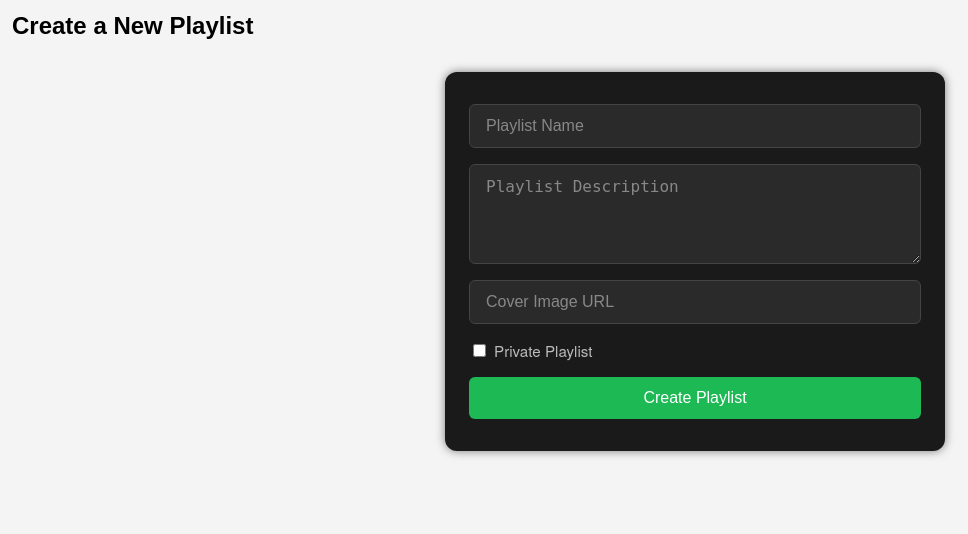
CreatePlaylist › shows password input when private is checked
Click the checkbox labelled "Private Playlist" at point(480, 350), box [473, 344, 486, 357]
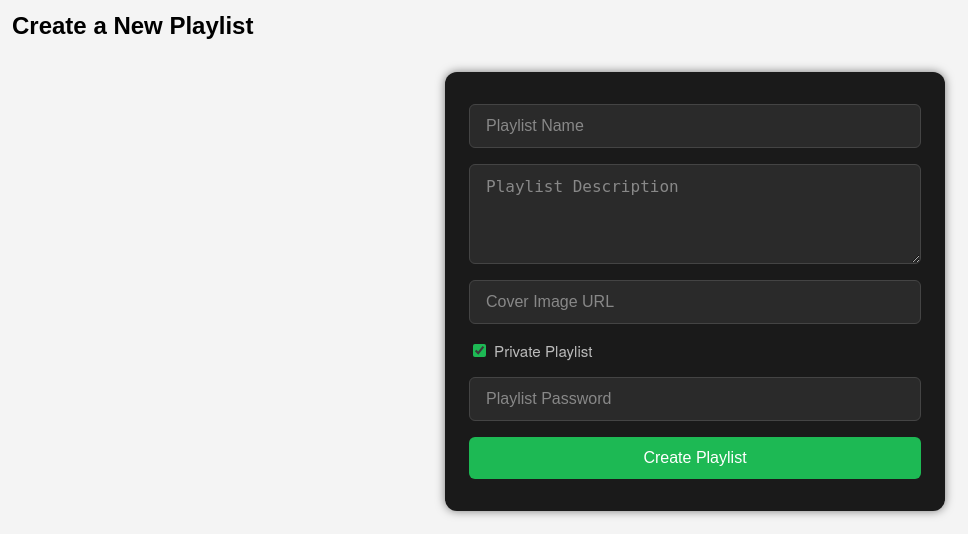
Expected: the password field with placeholder "Playlist Password" is shown, [469, 377, 921, 421]
